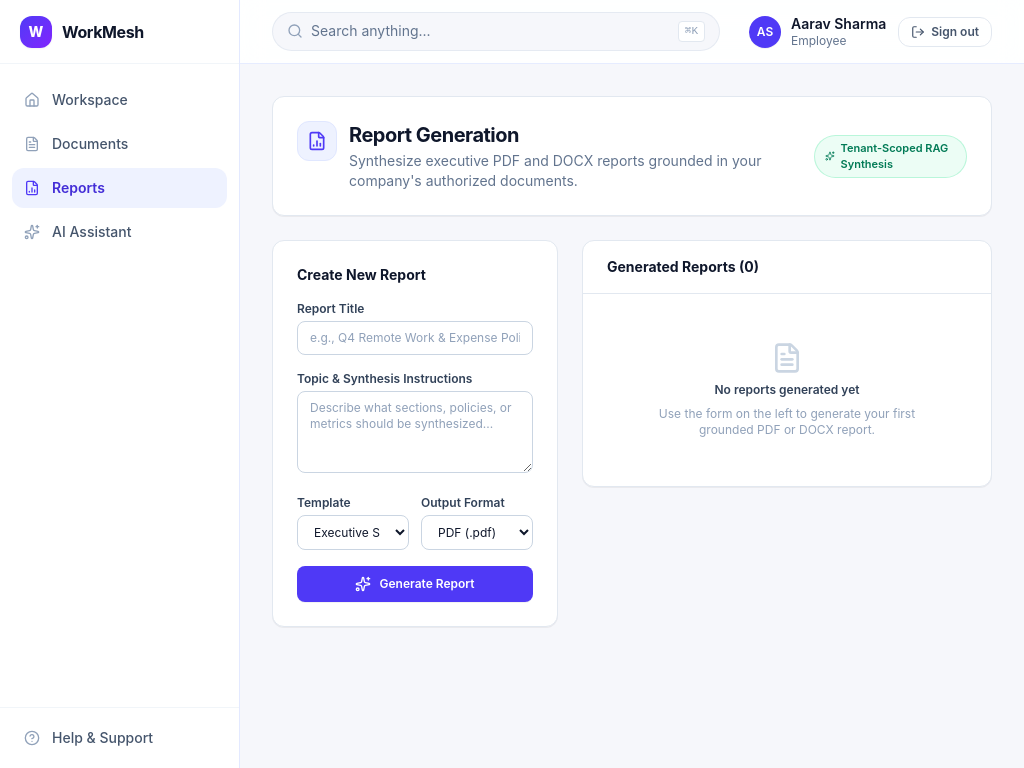
ReportsPage › displays error banner when report generation API fails
This screenshot has width=1024, height=768.
Check: the text "No reports generated yet" is shown, box [714, 382, 860, 397]
Type "Fail Report" into the field labelled "Report Title" at coordinates (415, 338), box [297, 321, 533, 355]
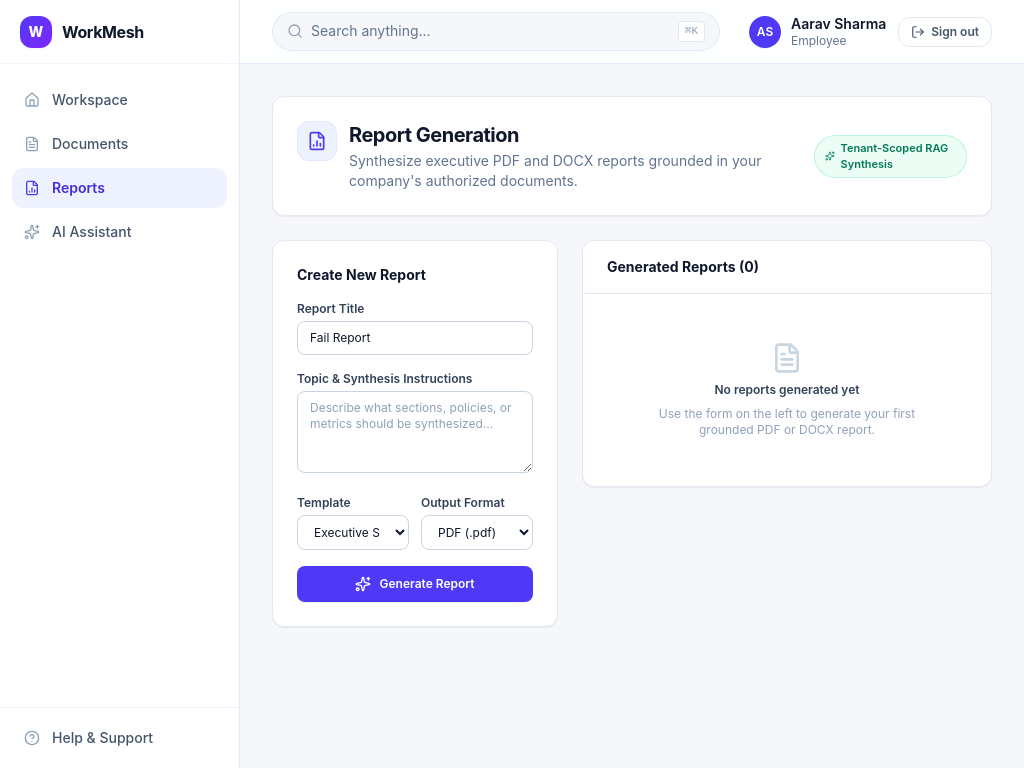
Replace the text in the text box labelled "Topic & Synthesis Instructions" with "Test failure" at coordinates (415, 432), box [297, 391, 533, 473]
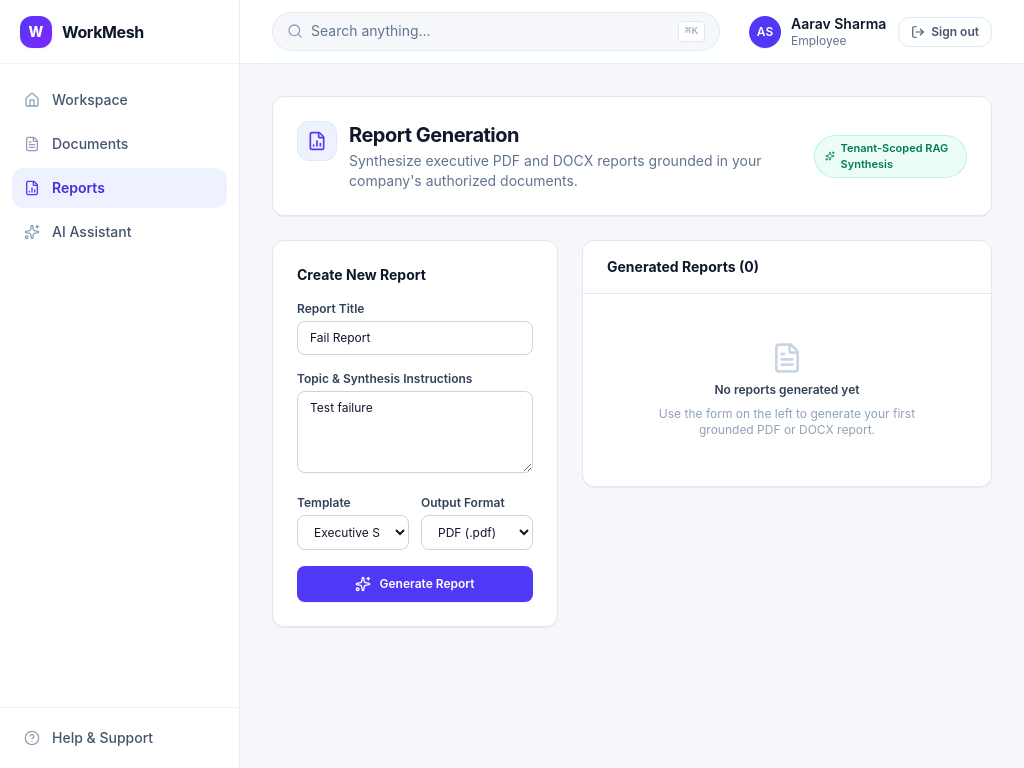
Click the button "Generate Report" at coordinates (415, 584), box [297, 566, 533, 602]
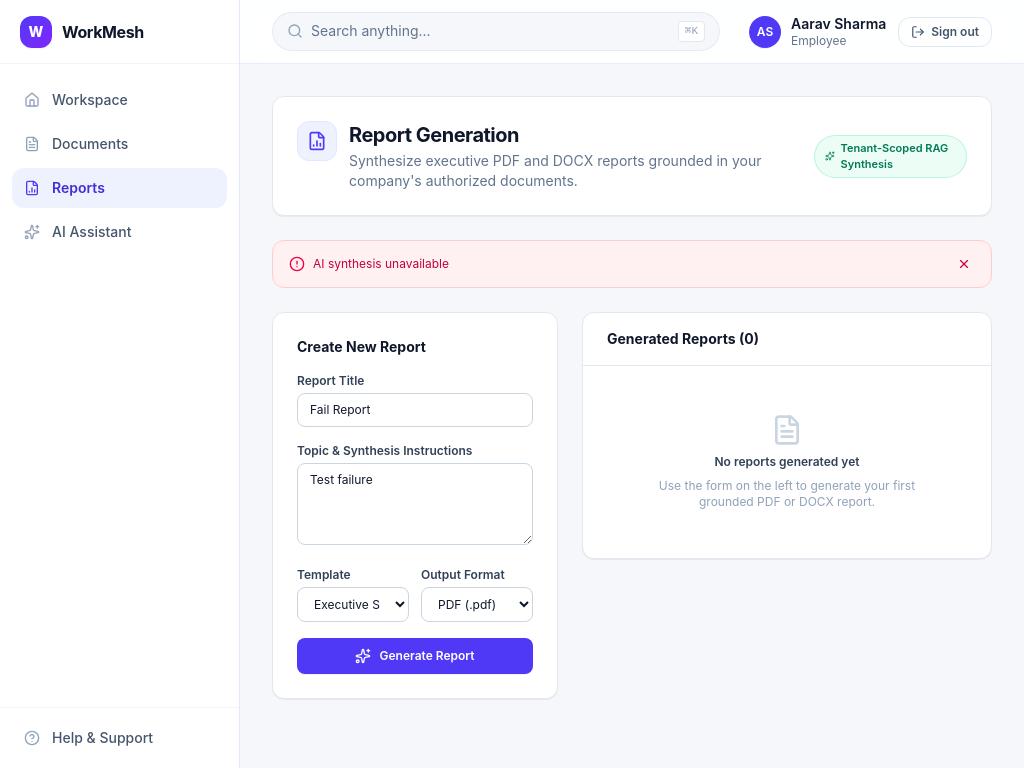
Check: the message reads "AI synthesis unavailable", box [313, 256, 449, 271]
